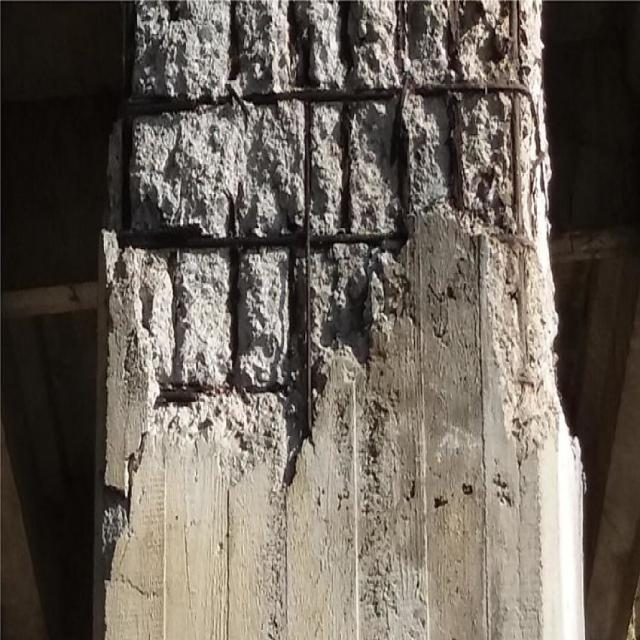Spalling: (98, 1, 582, 534)
